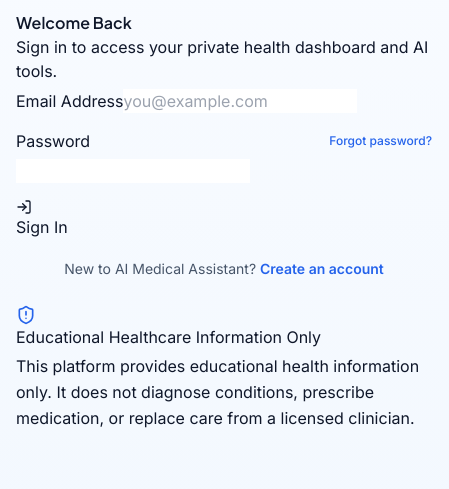
Test: AI Medical Assistant Frontend › validates login form inputs with Zod + React Hook Form
What coordinates should you click on to do the following:
click the button "Sign In"
I would click on:
 (42, 219)
Its box is 16,199 -> 68,239.
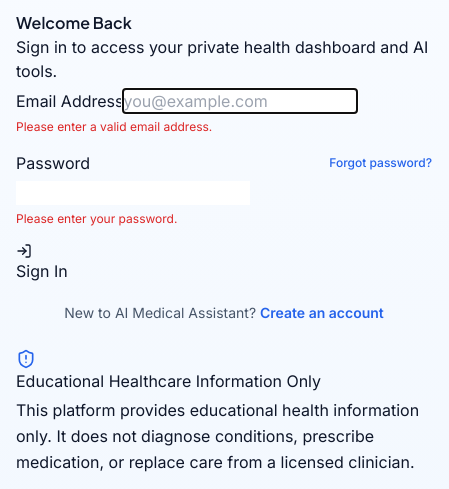
Check: the text "Please enter a valid email address." is shown, box 16,119 -> 212,134
